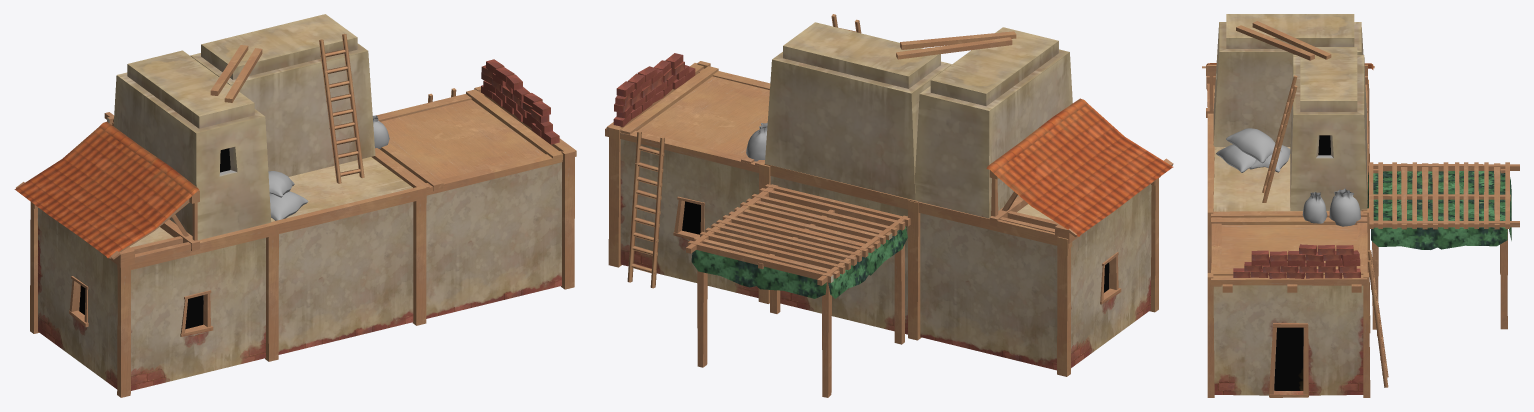
The model's file is SM_house_5.fbx.
3 views of the same model, side by side, from view 1: azimuth 30°, elevation 25°; view 2: azimuth 150°, elevation 25°; view 3: azimuth 270°, elevation 25° (orthographic). The views are drawn at different scales.
Parts seen in each view (by area): view 1: kit1_ceilling9, polySurface1042, polySurface1016, polySurface1013, polySurface1015, polySurface1012, polySurface1014, polySurface1017, polySurface1009, SM_Bag_09, polySurface1019, polySurface1018 (+1 smaller); view 2: kit1_ceilling9, polySurface1081, polySurface1033, polySurface1009, polySurface1008, polySurface1010, polySurface1007, polySurface1006, polySurface1015, polySurface1018, polySurface1019, SM_Bag_025; view 3: kit1_ceilling9, polySurface1081, SM_Bag_011, SM_Bag_025, polySurface1042, polySurface1012, polySurface1010, polySurface1033, polySurface1018, polySurface1019, SM_Bag_09, SM_Bag_026 (+3 smaller).
Part boxes in pixels (x1,y1,x2,y2): kit1_ceilling9: [14, 14, 576, 390]; polySurface1042: [319, 33, 364, 183]; polySurface1016: [271, 188, 424, 233]; polySurface1013: [412, 185, 426, 325]; polySurface1015: [117, 265, 131, 397]; polySurface1012: [561, 149, 574, 289]; polySurface1014: [265, 221, 278, 361]; polySurface1017: [117, 224, 276, 269]; polySurface1009: [30, 202, 39, 333]; SM_Bag_09: [269, 191, 308, 220]; polySurface1019: [224, 48, 262, 102]; polySurface1018: [210, 45, 248, 95]; kit1_ceilling9: [605, 22, 1173, 370]; polySurface1081: [686, 184, 910, 397]; polySurface1033: [627, 131, 664, 288]; polySurface1009: [1057, 236, 1070, 376]; polySurface1008: [908, 200, 921, 340]; polySurface1010: [608, 125, 622, 267]; polySurface1007: [916, 201, 1072, 248]; polySurface1006: [764, 163, 917, 209]; polySurface1015: [1149, 178, 1158, 312]; polySurface1018: [896, 37, 1012, 59]; polySurface1019: [900, 31, 1016, 49]; SM_Bag_025: [746, 122, 767, 161]; kit1_ceilling9: [1202, 14, 1374, 397]; polySurface1081: [1367, 162, 1519, 329]; SM_Bag_011: [1226, 128, 1281, 163]; SM_Bag_025: [1329, 188, 1360, 226]; polySurface1042: [1262, 75, 1297, 202]; polySurface1012: [1207, 272, 1214, 397]; polySurface1010: [1363, 272, 1370, 397]; polySurface1033: [1367, 250, 1388, 387]; polySurface1018: [1252, 21, 1331, 59]; polySurface1019: [1236, 25, 1314, 60]; SM_Bag_09: [1216, 144, 1255, 172]; SM_Bag_026: [1302, 192, 1327, 223].
Size of the model in its own units: 13.91 by 7.38 by 9.
